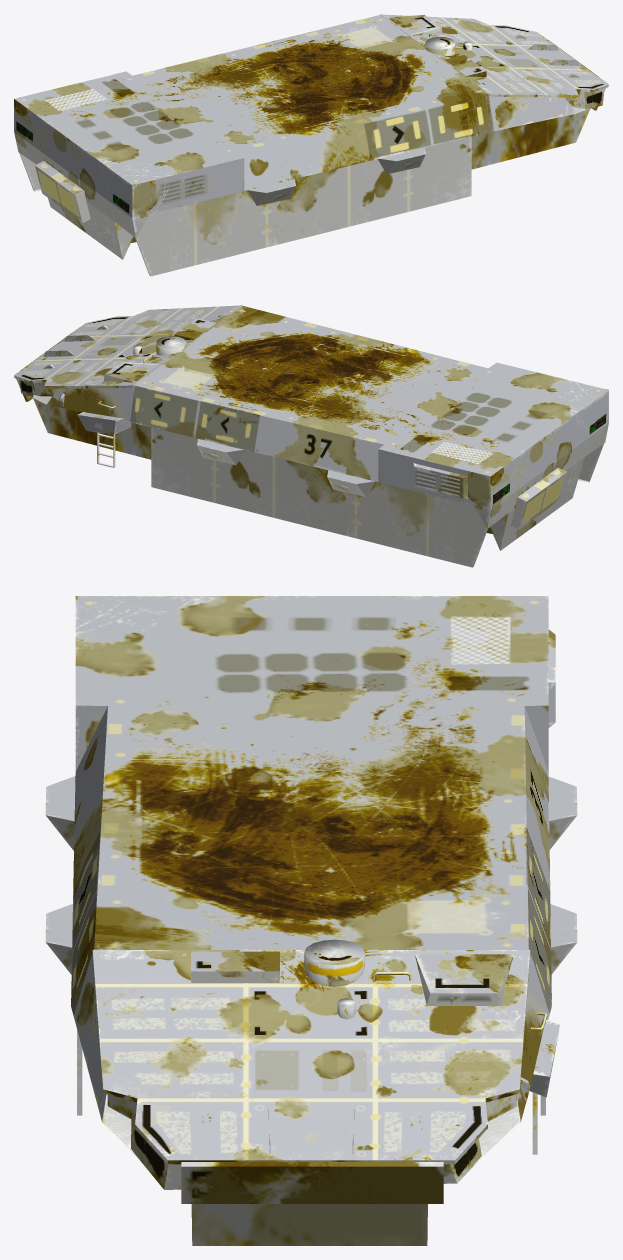
File: body.obj
The picture shows the model from 3 angles, top to bottom: view 1: azimuth 30°, elevation 25°; view 2: azimuth 150°, elevation 25°; view 3: azimuth 270°, elevation 25°; orthographic projection. The views are drawn at different scales.
Visible parts, largest first — view 1: body_textures; view 2: body_textures; view 3: body_textures.
Boxes of the visible parts, x1,y1,x2,y2 form: body_textures: [14, 14, 608, 276]; body_textures: [14, 305, 608, 567]; body_textures: [45, 596, 577, 1245].
Size of the model in its own units: 10.76 by 2.12 by 4.86.
1 material, 1 textured.
